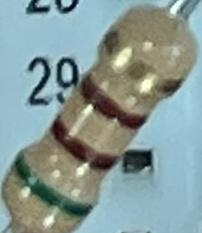Brown: (72, 73, 148, 137), (44, 114, 118, 176)
Green: (8, 150, 97, 225)
Side-Gold: (96, 24, 185, 101)
